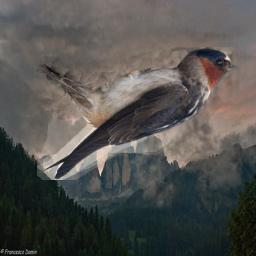Swallow: (37, 47, 243, 180)
